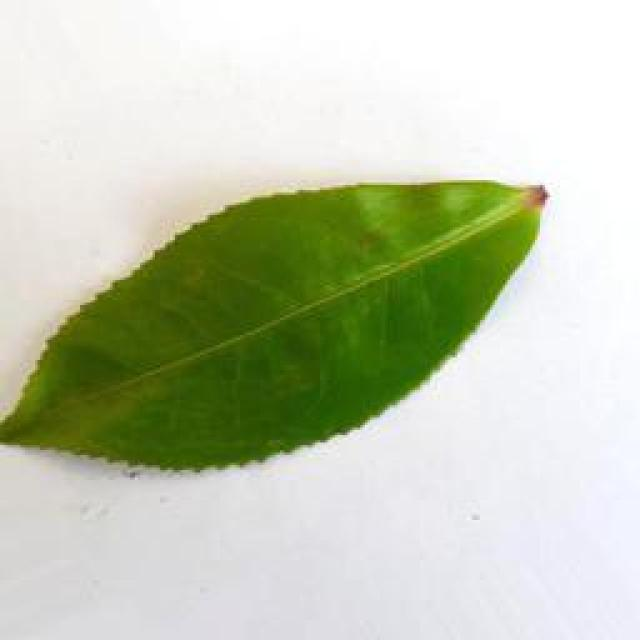Healthy: (1, 170, 554, 468)
